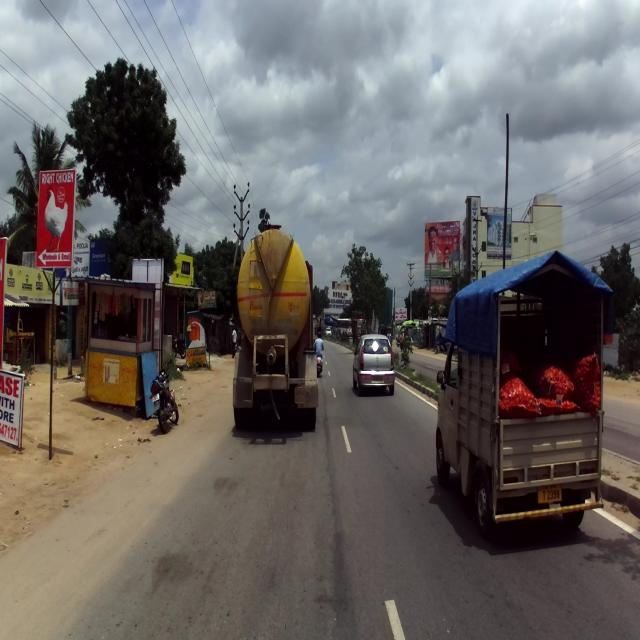Car_TATA: (351, 332, 395, 398)
motorcycle_Hero: (148, 357, 182, 434)
truck: (434, 248, 616, 540), (232, 221, 318, 434)
